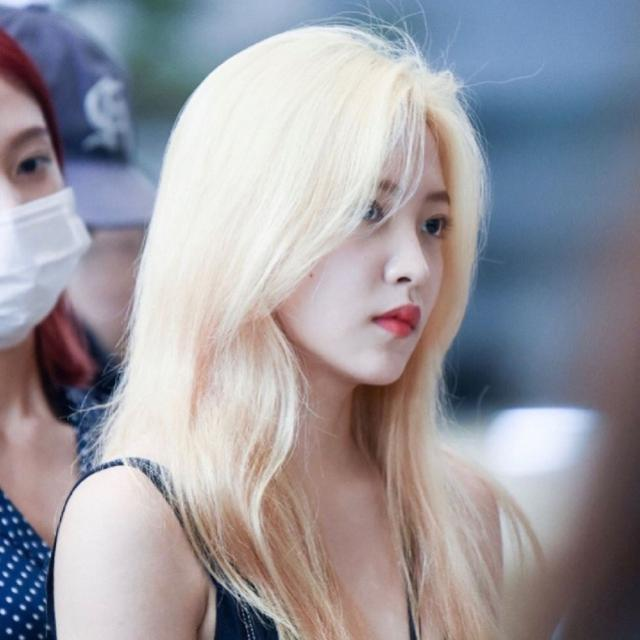Nonhelmet: (158, 22, 490, 394)
